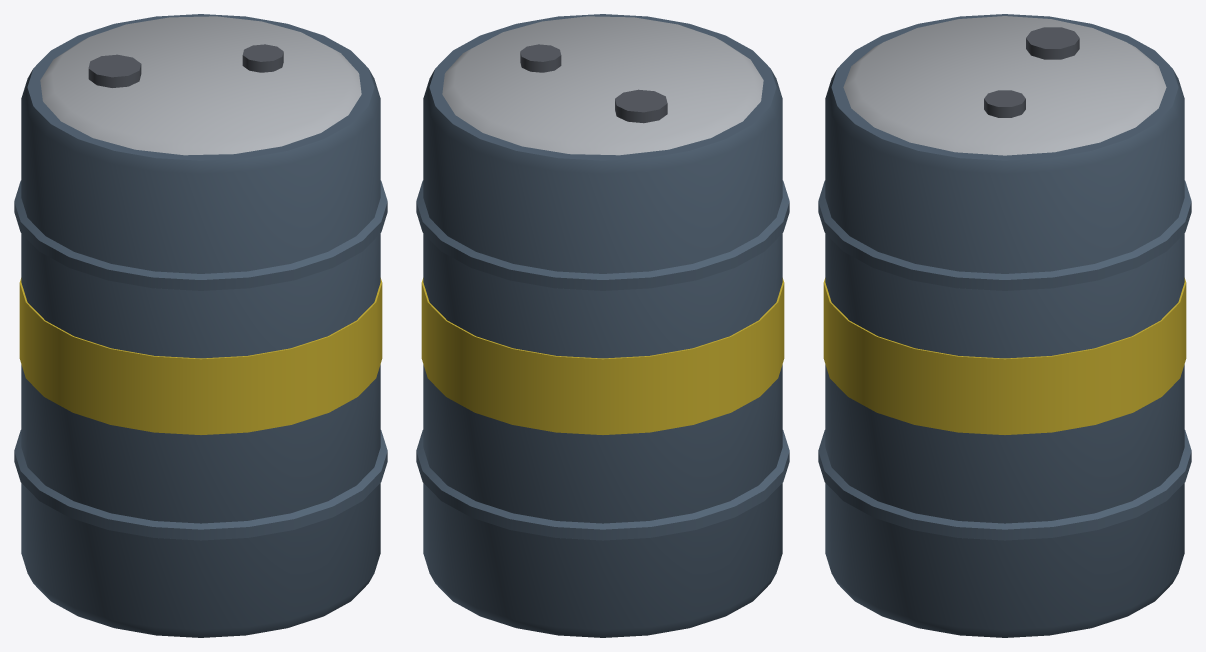
The model's file is barrel_stripe.glb.
The picture shows the model from 3 angles, left to right: view 1: azimuth 30°, elevation 25°; view 2: azimuth 150°, elevation 25°; view 3: azimuth 270°, elevation 25°; orthographic projection.
Parts seen in each view (by area): view 1: barrel_mesh; view 2: barrel_mesh; view 3: barrel_mesh.
Boxes of the visible parts, box(x1,y1,x2,y2) form: barrel_mesh: box(14, 14, 387, 637); barrel_mesh: box(416, 14, 789, 637); barrel_mesh: box(818, 14, 1191, 637).
Size of what is drawn, in the model's own units: 0.624 by 0.915 by 0.624.
